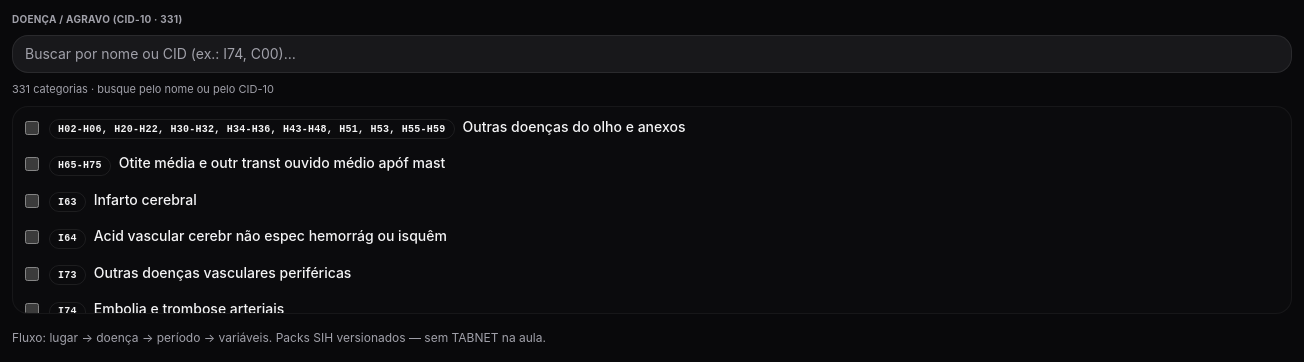
Scenario: MeasureDiseasePicker — busca por apelido (TAX-05) › "aterosclerose" acha a linha oficial "Arteroesclerose" sem entrada curada (D-17)
Step 1. Type "aterosclerose" into the search field named "Buscar doença" → (652, 54), box [12,35,1292,73]
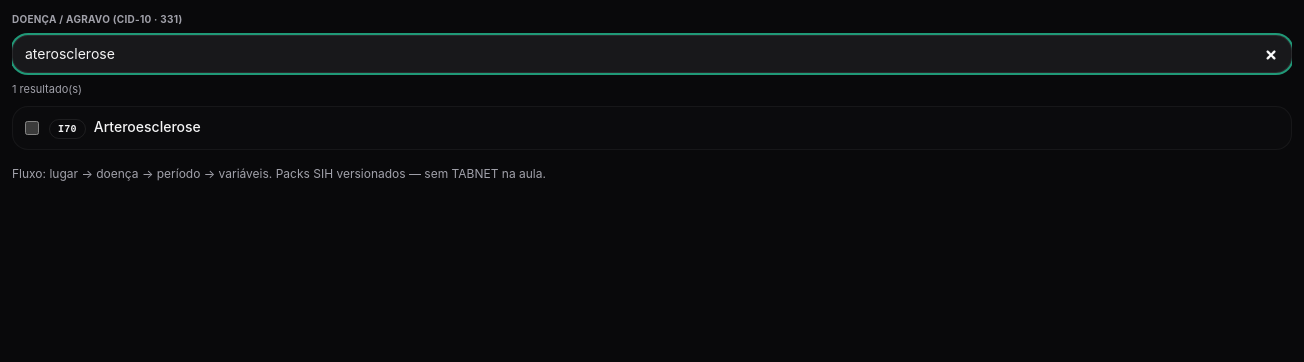
Check: the text "Arteroesclerose" is shown, box [94,116,201,136]
